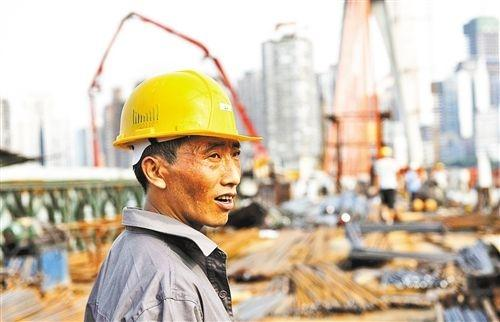helmet: (102, 69, 268, 154)
wear: (86, 222, 232, 322)
